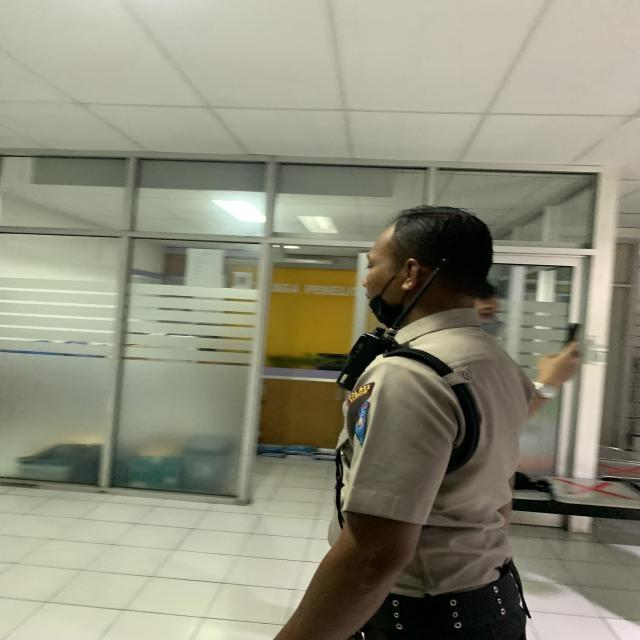hairnet: (356, 205, 496, 330)
